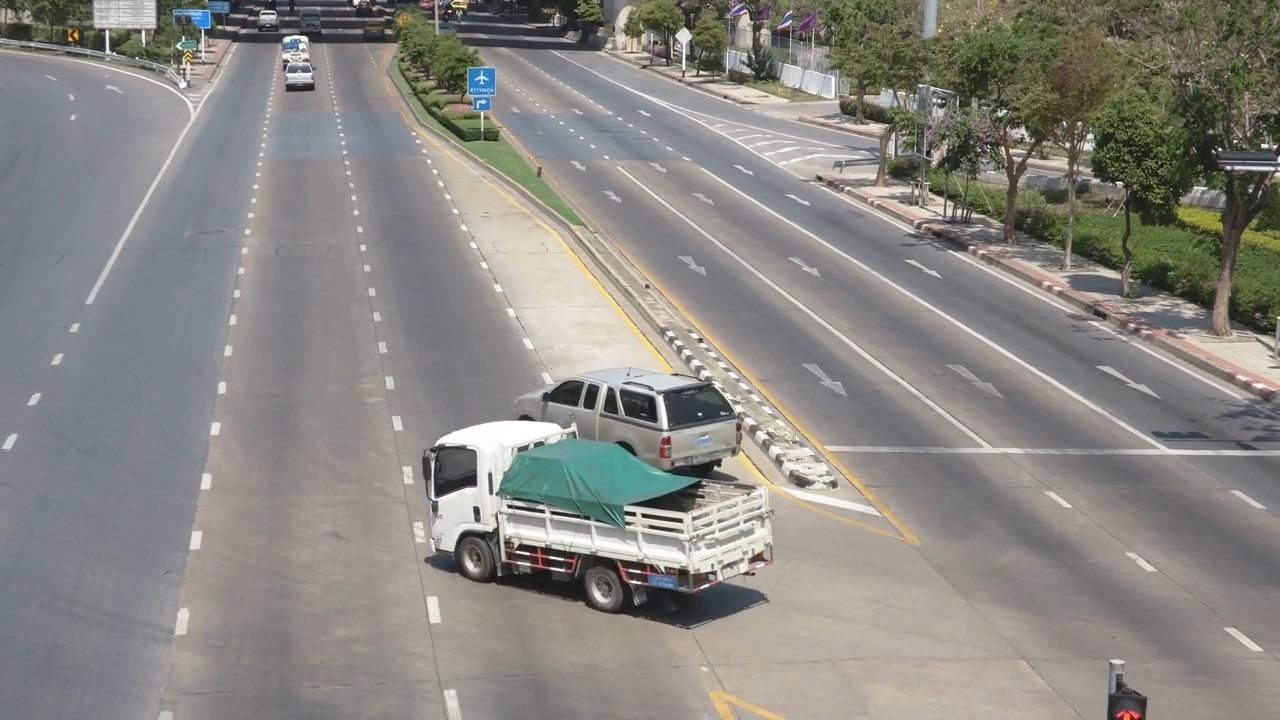CAR: (418, 421, 778, 622), (513, 346, 761, 475), (240, 7, 286, 47), (279, 62, 326, 98), (271, 32, 317, 67), (297, 12, 337, 52), (356, 11, 395, 48)
